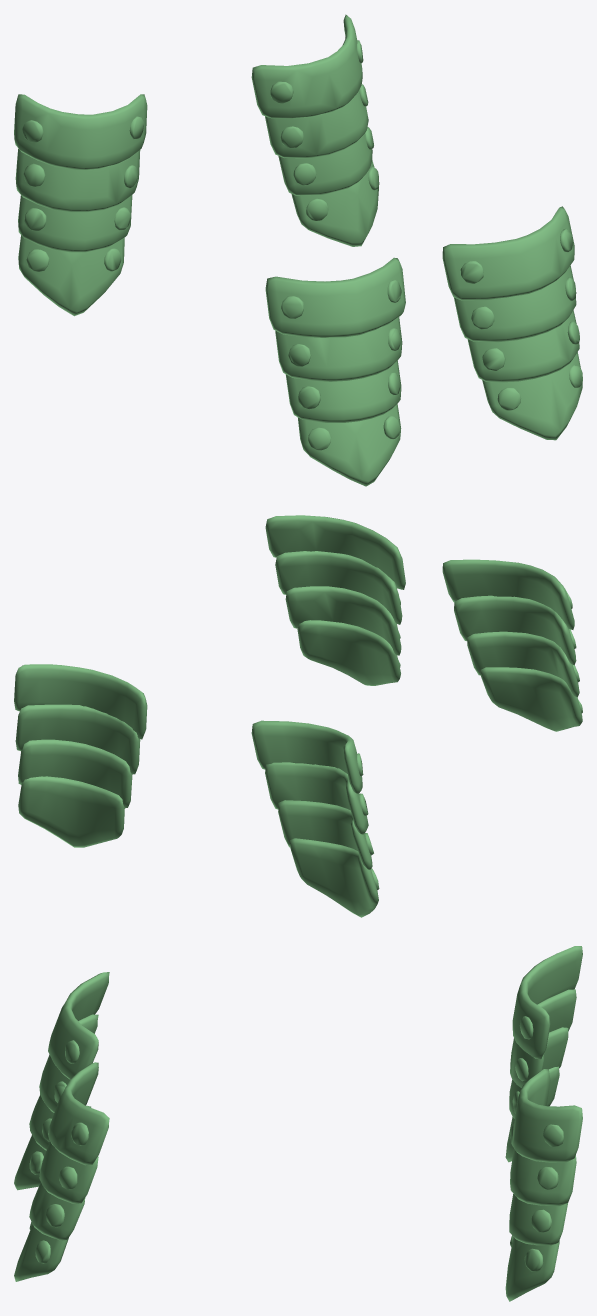
The model's file is armour_hooves.obj.
The picture shows the model from 3 angles, top to bottom: view 1: azimuth 30°, elevation 25°; view 2: azimuth 150°, elevation 25°; view 3: azimuth 270°, elevation 25°; orthographic projection.
Parts seen in each view (by area): view 1: vn_alternatedash_armor_hooves; view 2: vn_alternatedash_armor_hooves; view 3: vn_alternatedash_armor_hooves.
Boxes of the visible parts, x1,y1,x2,y2 form: vn_alternatedash_armor_hooves: (14, 14, 582, 486); vn_alternatedash_armor_hooves: (14, 515, 582, 917); vn_alternatedash_armor_hooves: (14, 946, 582, 1301).
Size of the model in its own units: 13.91 by 7.66 by 18.87.
